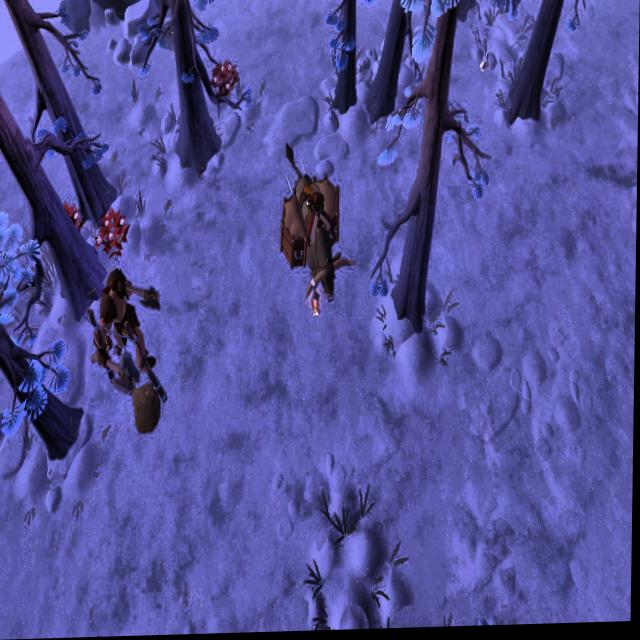enemy_factionKeeper: (96, 258, 164, 389)
fiber_t5: (95, 207, 132, 263), (207, 53, 239, 106), (60, 199, 86, 236)
